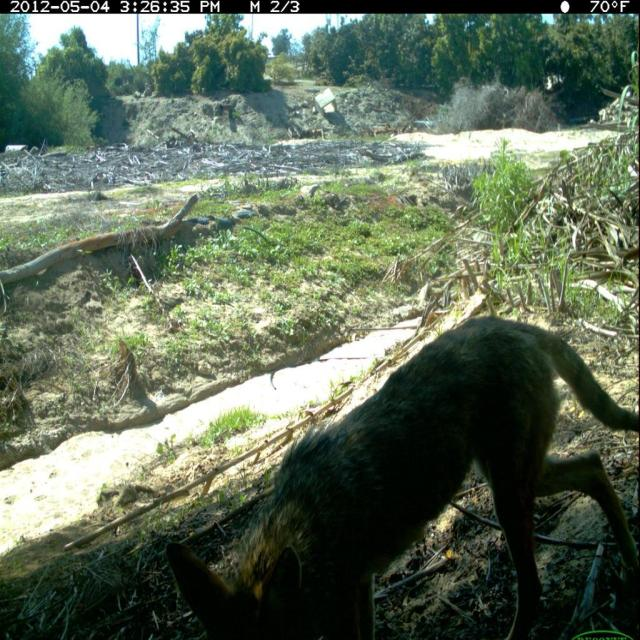coyote: (160, 313, 637, 640)
